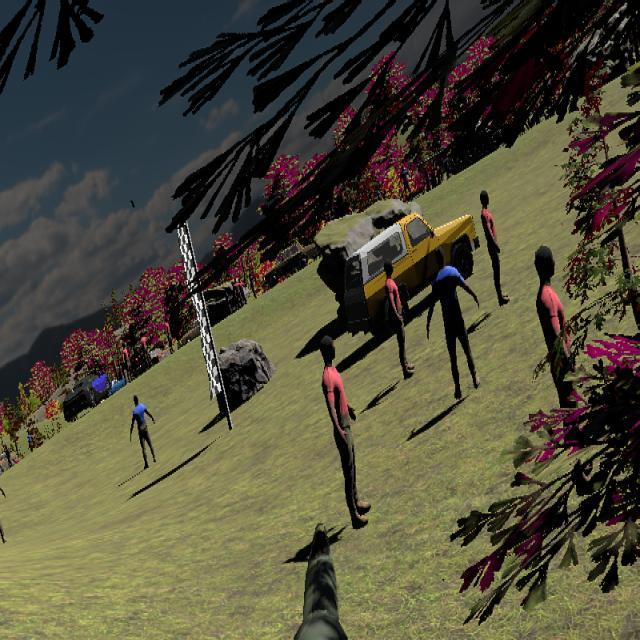Human: (319, 334, 373, 534), (535, 244, 576, 408), (383, 257, 415, 381), (480, 189, 510, 309), (130, 394, 157, 470)
car: (333, 212, 479, 335), (62, 380, 99, 422)
